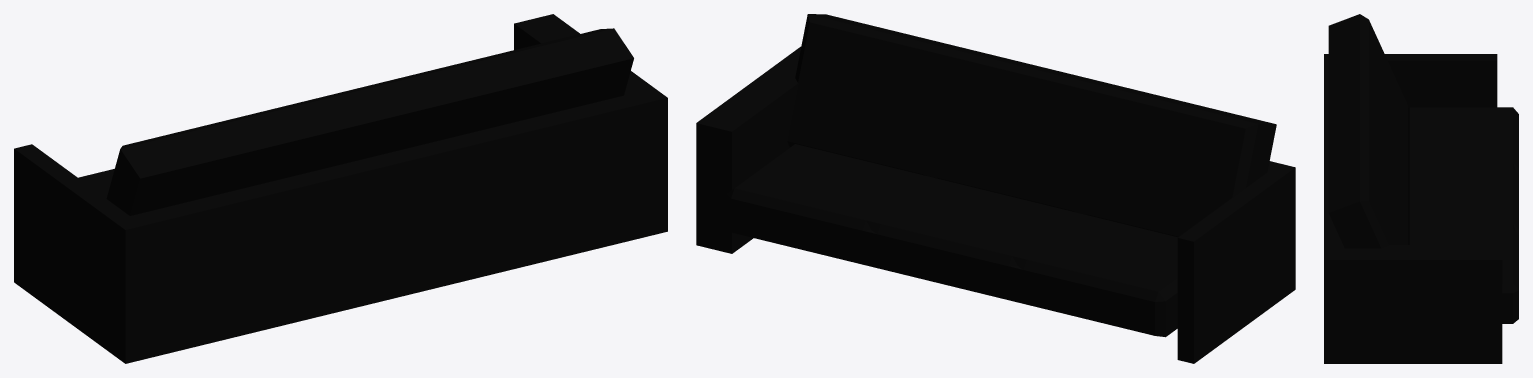
File: 3SeatLounge.fbx
The picture shows the model from 3 angles, left to right: view 1: azimuth 30°, elevation 25°; view 2: azimuth 150°, elevation 25°; view 3: azimuth 270°, elevation 25°; orthographic projection. The views are drawn at different scales.
Visible parts, largest first — view 1: node_id6; view 2: node_id6, node_id9; view 3: node_id6, node_id9.
Boxes of the visible parts, x1,y1,x2,y2 form: node_id6: (14, 14, 667, 363); node_id6: (696, 14, 1295, 363); node_id9: (727, 51, 1165, 301); node_id6: (1324, 14, 1518, 363); node_id9: (1360, 75, 1518, 292).
Bounding box in the file's own units: 0.512 × 0.1749 × 0.2046.
2 materials, 2 textured.
